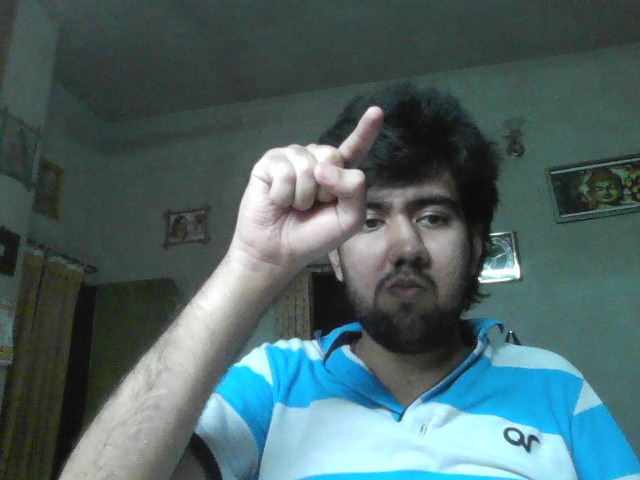You: (238, 105, 383, 259)
